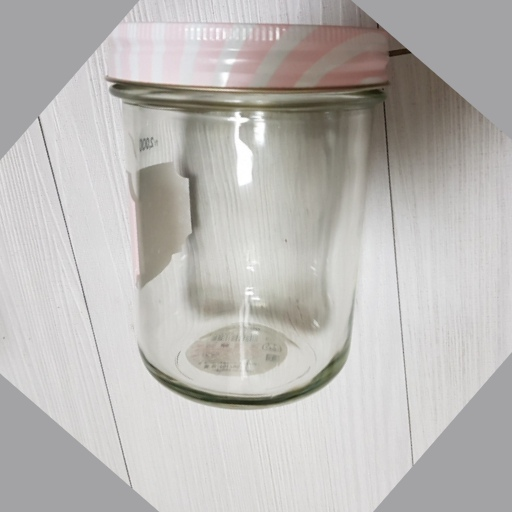Glass_5: (109, 22, 395, 402)
